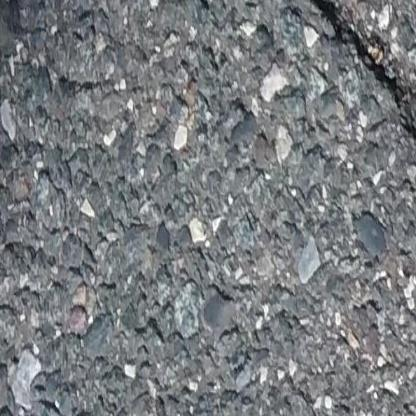Cracks: (297, 0, 416, 172)
